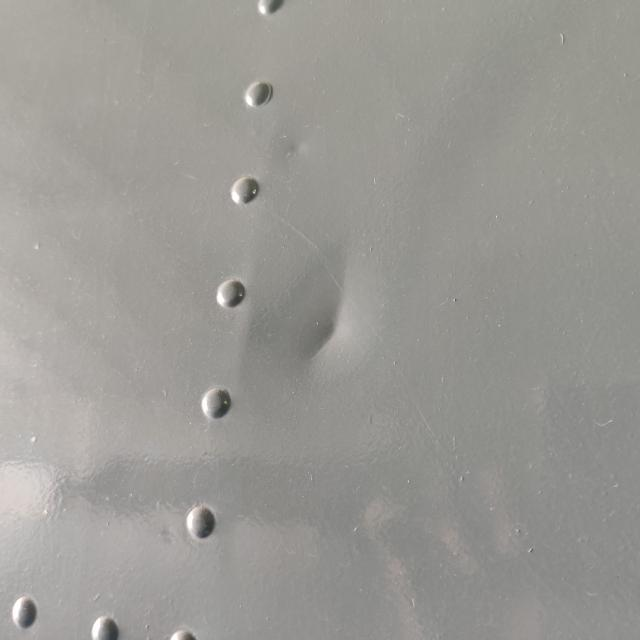dent: (277, 250, 384, 392)
